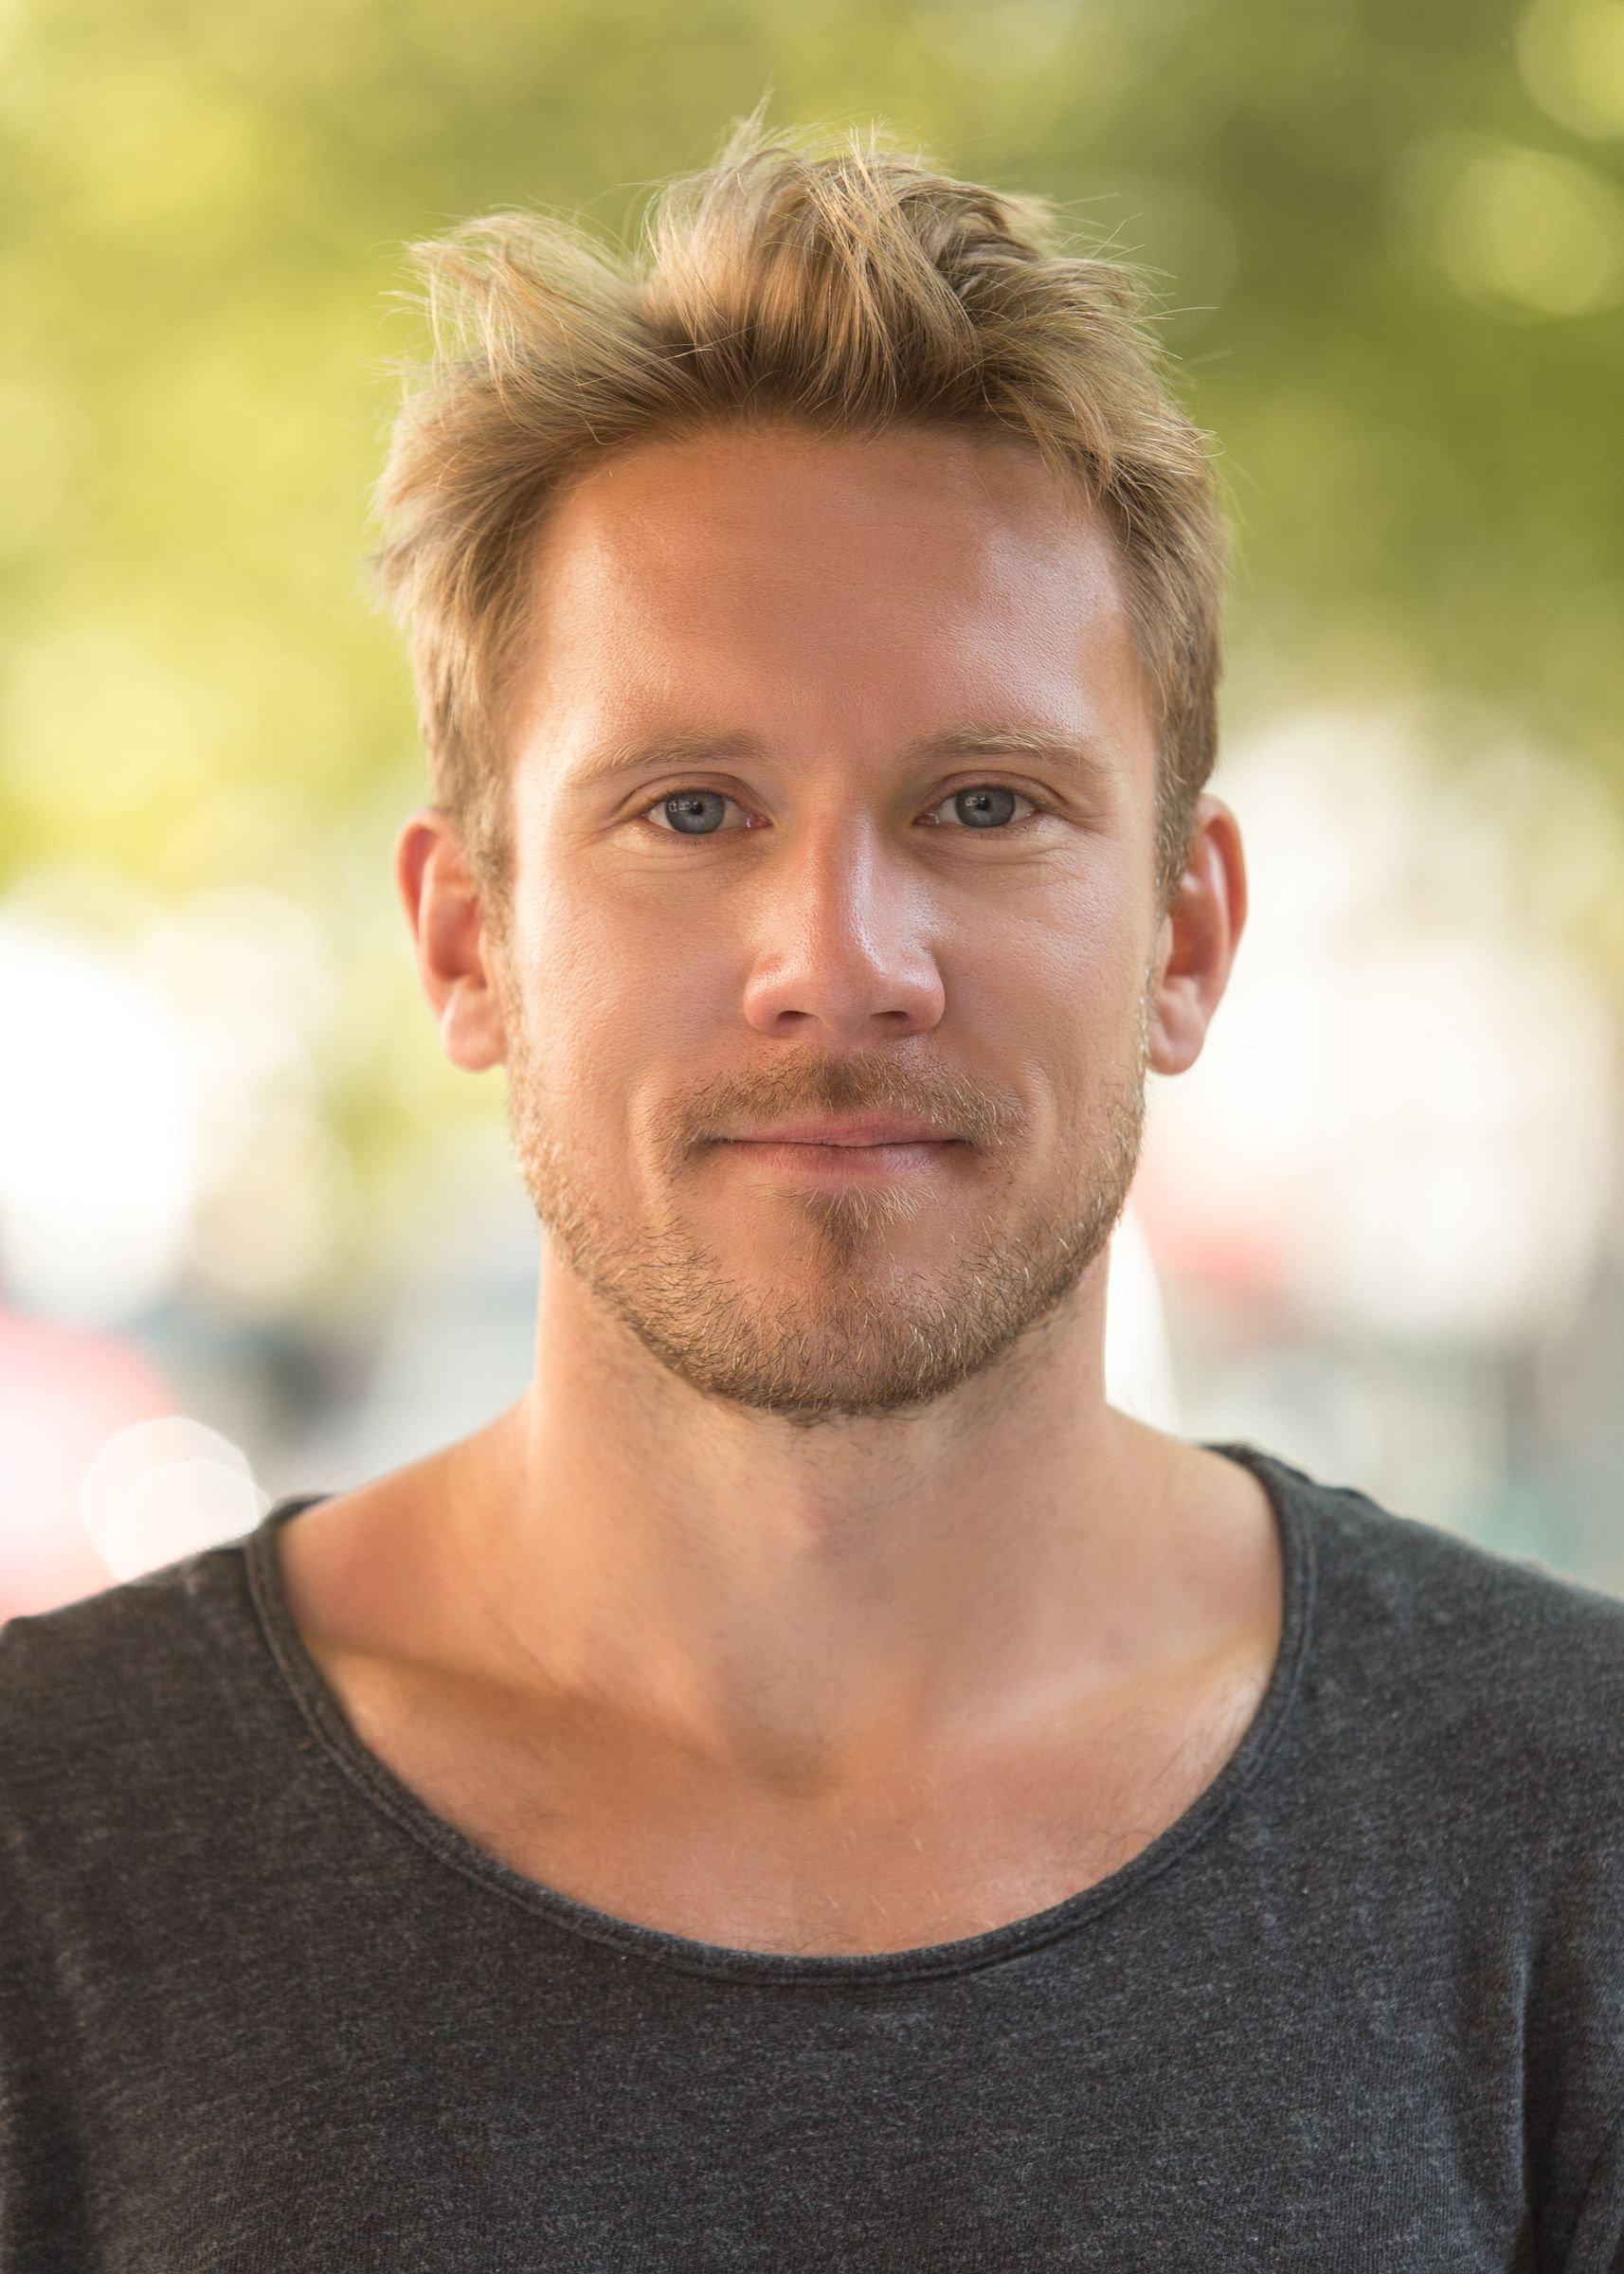Sober: (555, 460, 1130, 1353)
